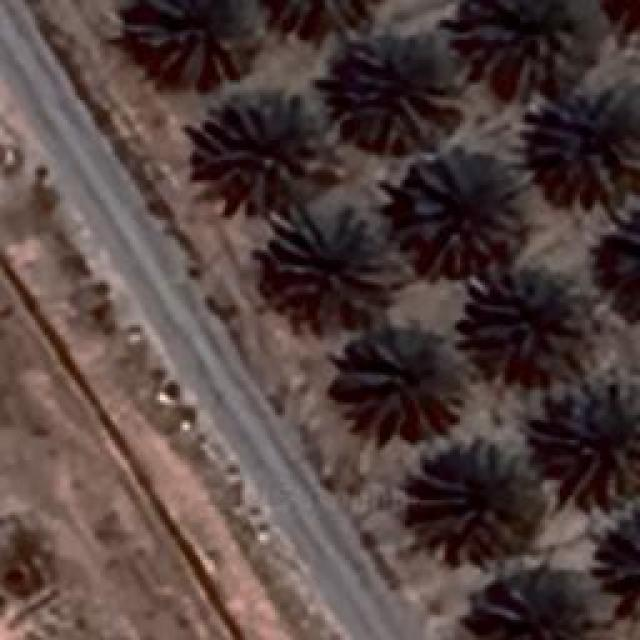PalmTree: (322, 25, 460, 150), (200, 90, 335, 205), (335, 330, 470, 442), (420, 440, 545, 558), (270, 207, 392, 325), (462, 262, 590, 368), (530, 80, 638, 205), (402, 160, 516, 270), (552, 368, 638, 502), (125, 0, 258, 80), (478, 575, 600, 640), (455, 0, 575, 65), (586, 214, 640, 327), (255, 0, 376, 46), (591, 509, 640, 615)
